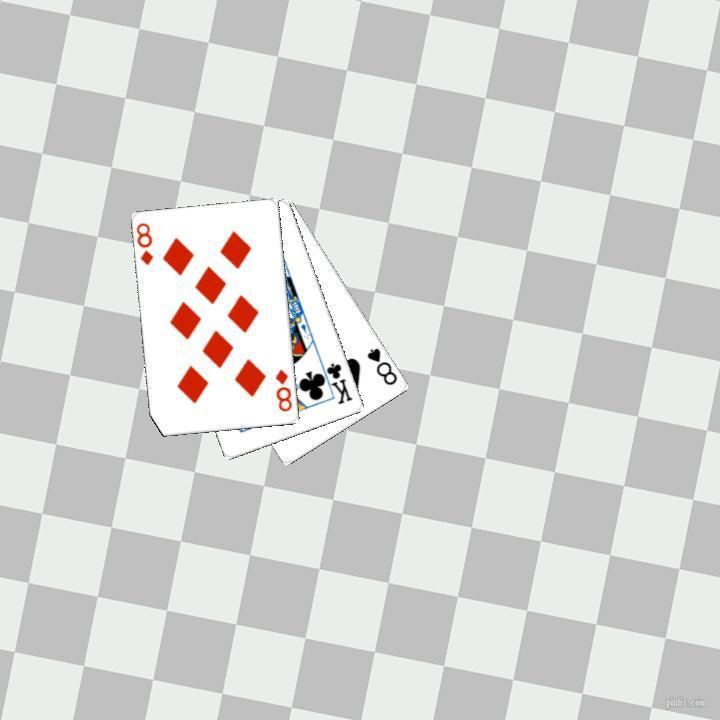8: (363, 343, 400, 387), (271, 365, 294, 414), (133, 219, 155, 268)
K: (316, 358, 355, 407)
